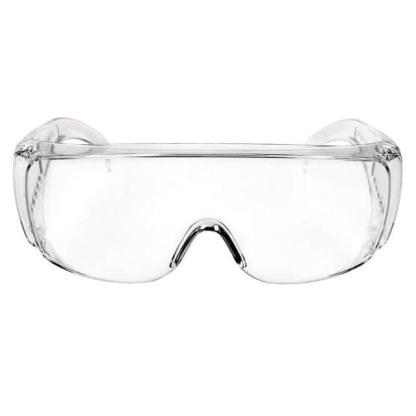oculos: (4, 116, 406, 304)
